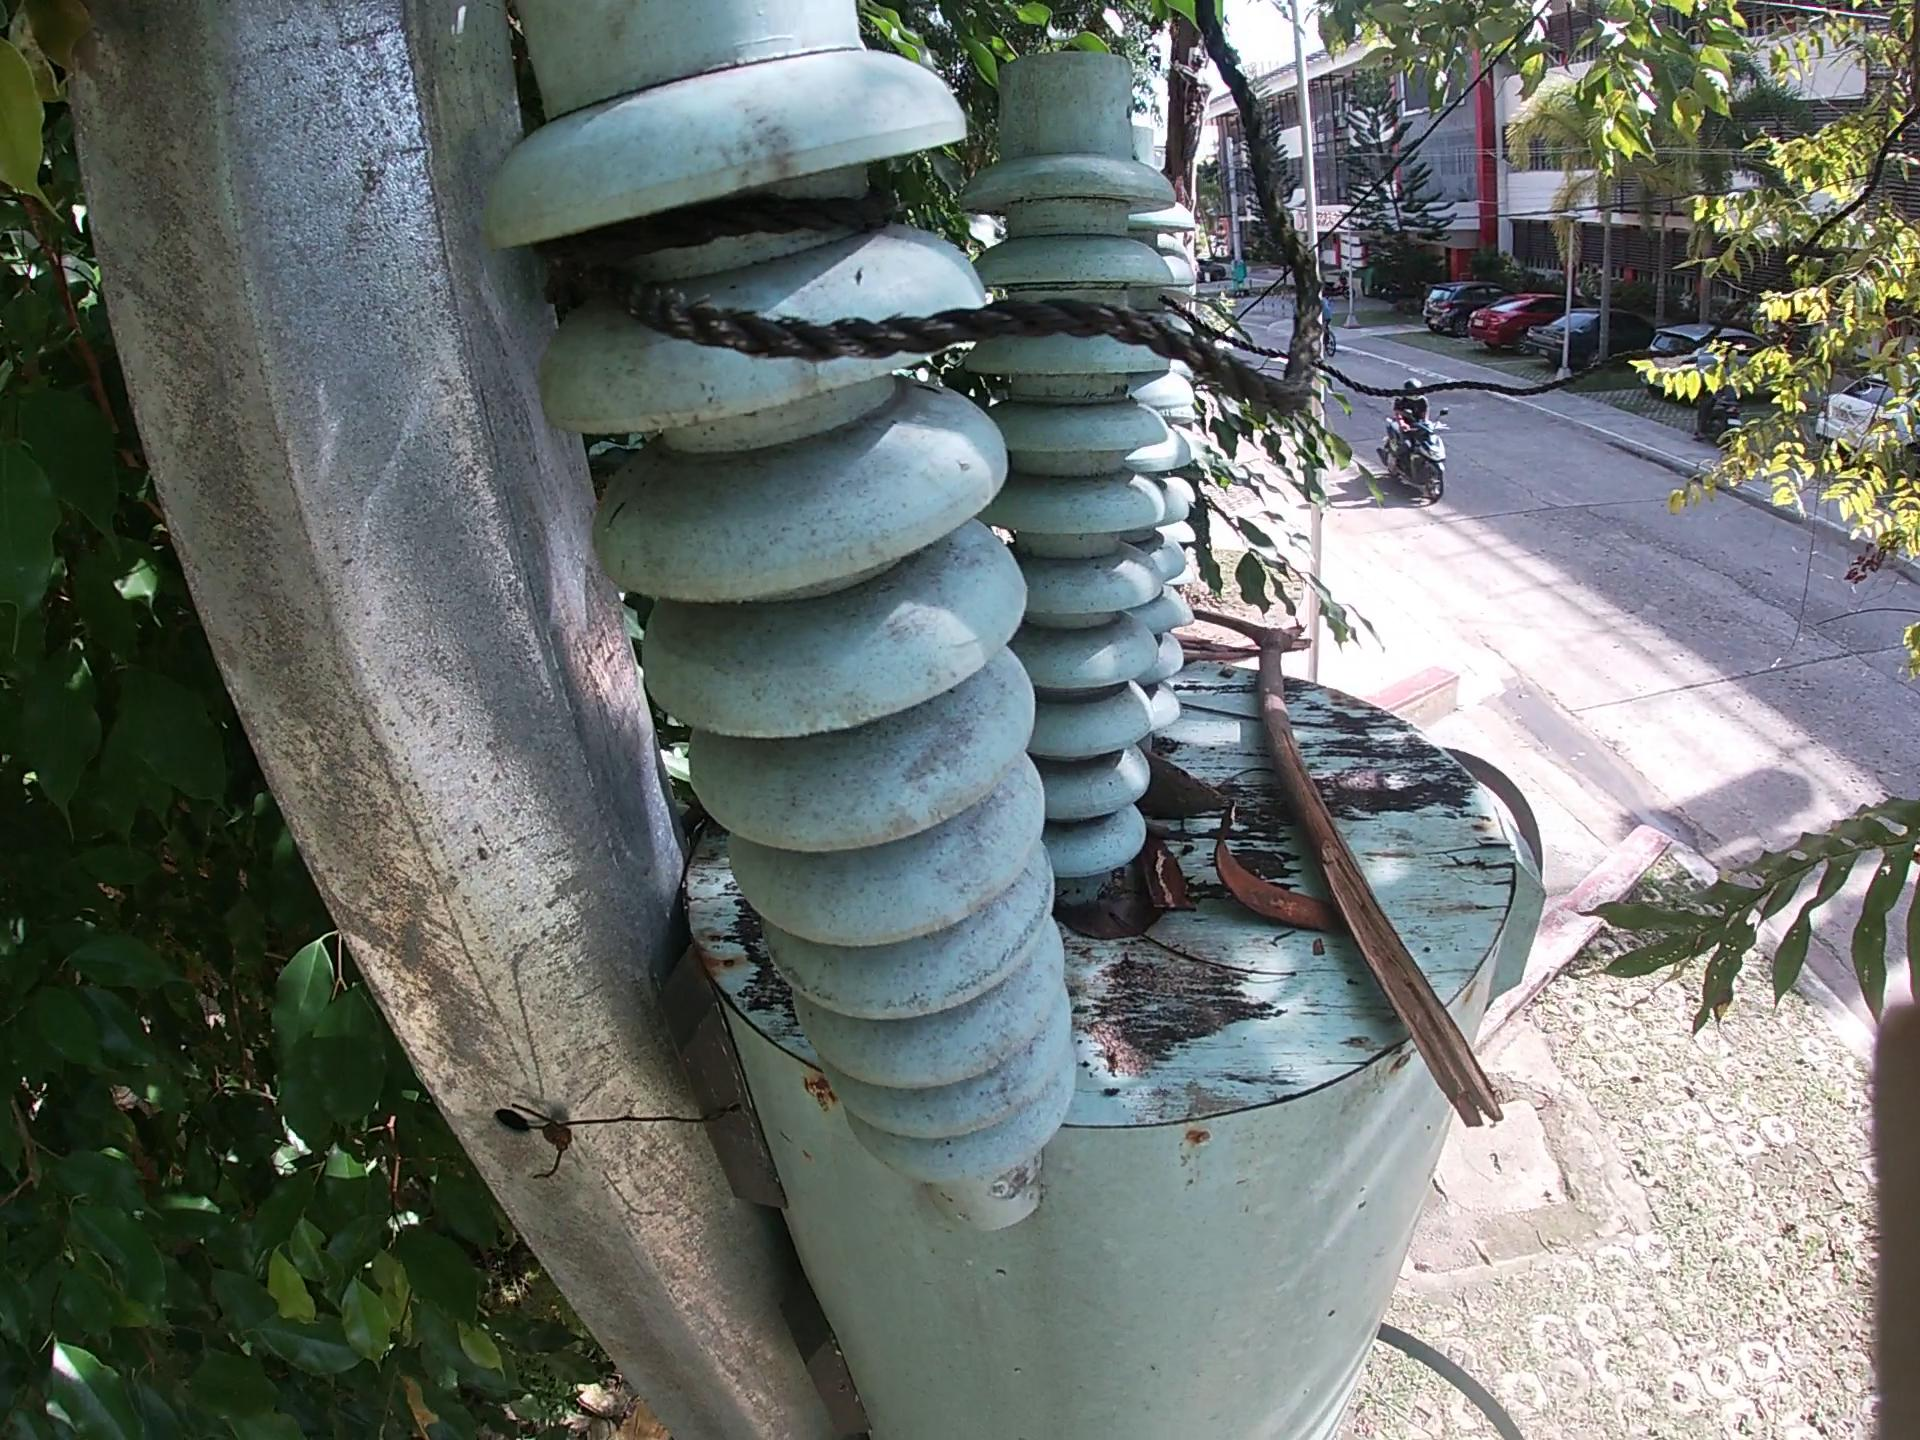leaf: (1063, 903, 1141, 951)
mahogany fruit: (1199, 830, 1344, 933), (1141, 756, 1237, 833)
tree branch: (1196, 616, 1525, 1141), (1163, 927, 1281, 1000), (1181, 703, 1415, 738), (1155, 838, 1188, 924), (1175, 637, 1253, 669)
